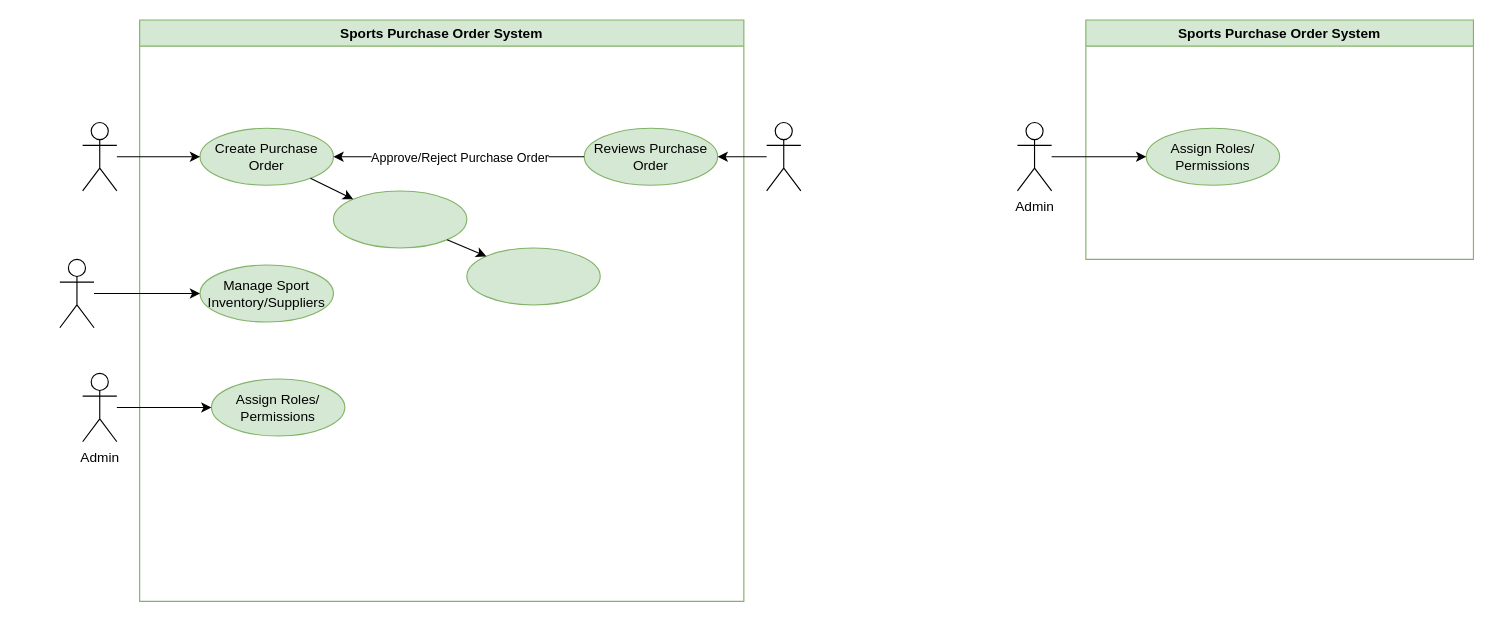
The diagram is 1493 pixels wide and 621 high, and some of its shapes have lost their labels. The centre of each missing label's shape, as x and y in pixels:
"Add Items to PO to order" goes at (399,219).
"Approver" goes at (783,156).
"Buyer" goes at (99,156).
"Edit/Update Purchase Order" goes at (533,276).
"Inventory Manager" goes at (76,293).
